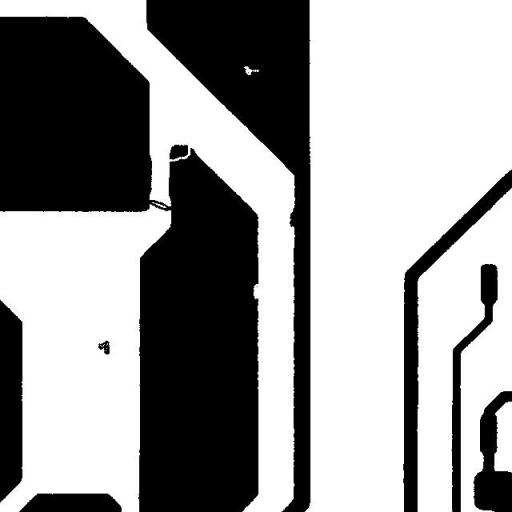copper: (90, 332, 117, 362)
mousebite: (246, 276, 267, 306)
open: (160, 136, 198, 169)
pin-hole: (236, 58, 266, 82)
short: (134, 192, 180, 218)
spur: (282, 200, 304, 234)
